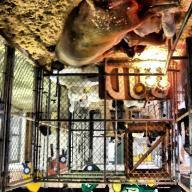boar: (45, 0, 176, 72)
